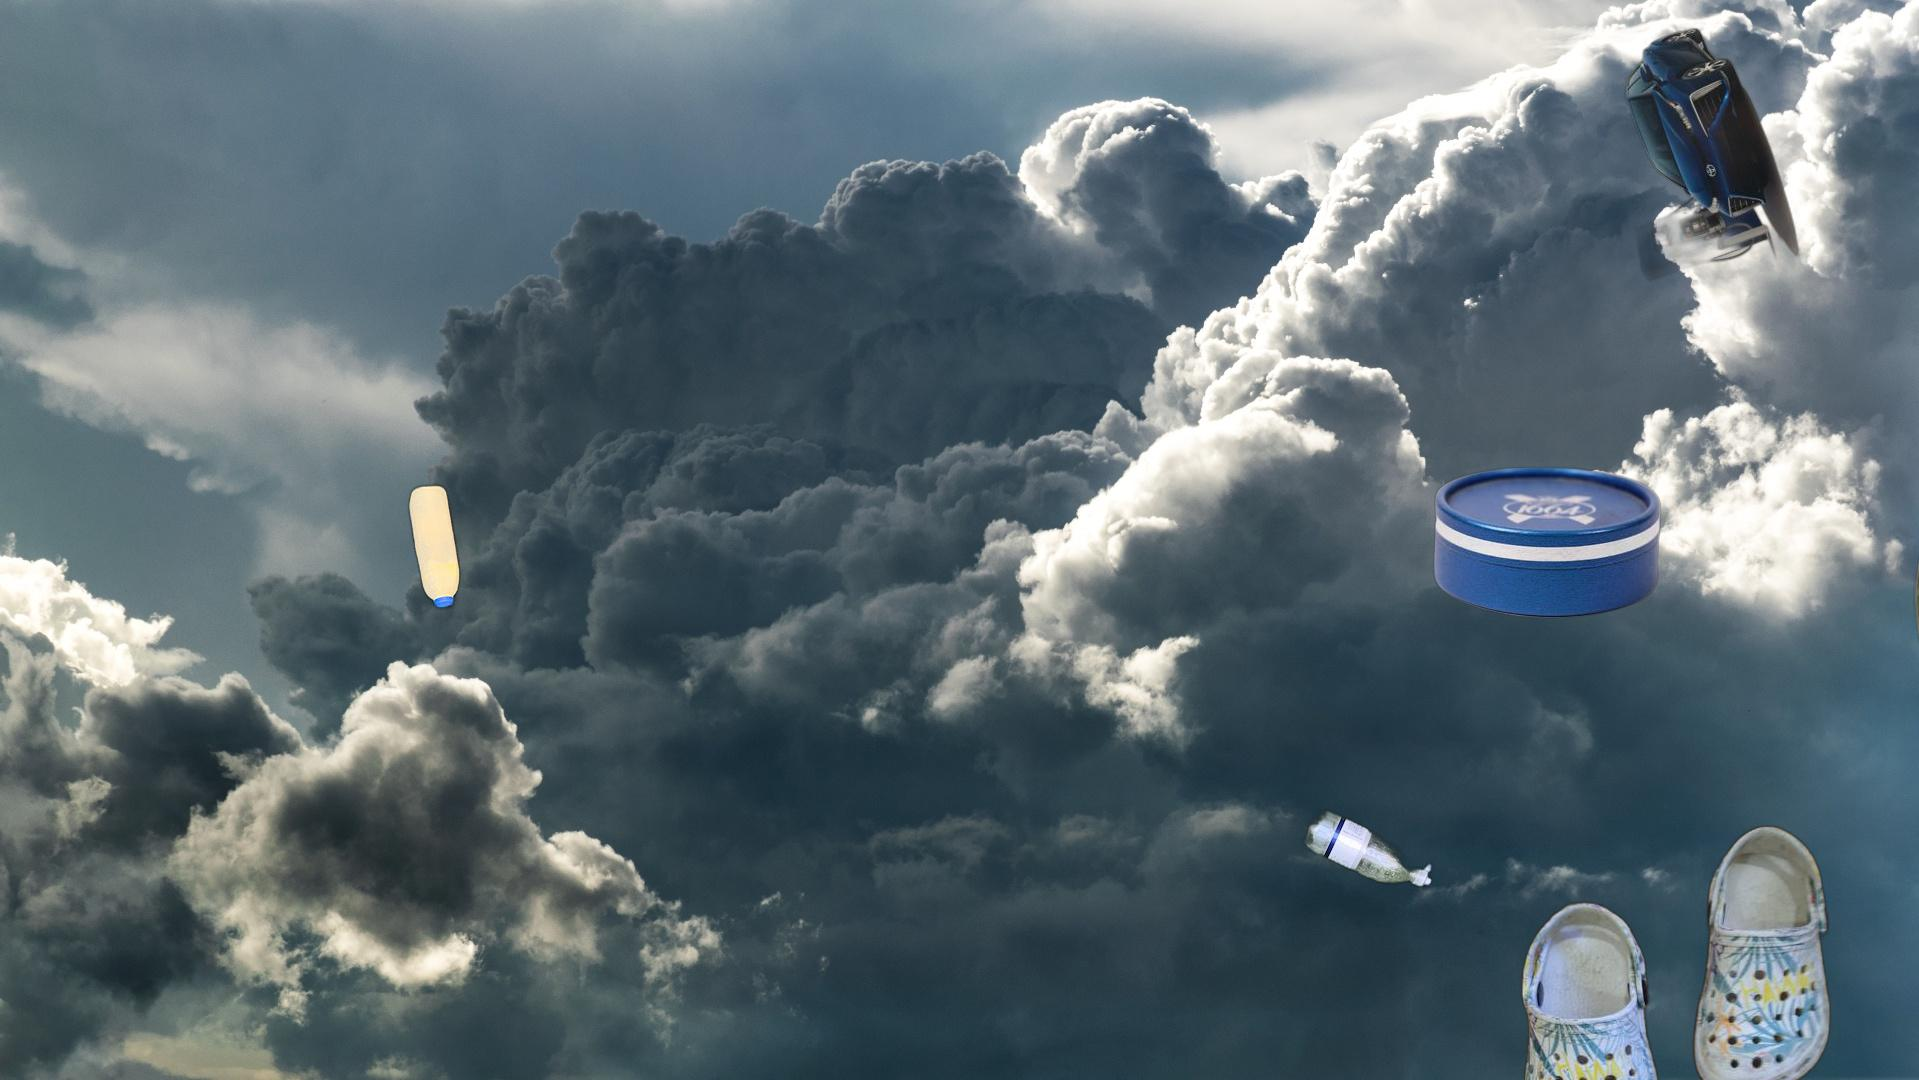glass: (1912, 415, 1919, 781)
paper: (1620, 25, 1802, 285)
plastic-bottles: (1300, 804, 1437, 893), (405, 479, 465, 615)
shoes: (1520, 822, 1835, 1080)
trash: (1902, 764, 1919, 984)
trashbox-cardboard: (1431, 465, 1665, 621)
